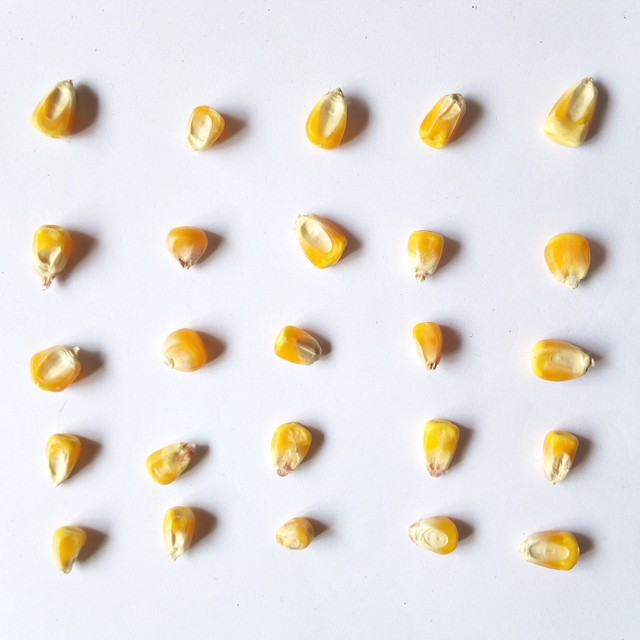maiz: (539, 74, 609, 155), (21, 218, 84, 299), (410, 85, 475, 159), (539, 223, 601, 297), (286, 209, 353, 274), (297, 81, 357, 153), (27, 75, 88, 143), (511, 522, 589, 575), (522, 334, 608, 382), (23, 334, 91, 394), (264, 413, 324, 480), (416, 412, 470, 480), (142, 436, 211, 488), (266, 320, 334, 369), (536, 422, 586, 487), (154, 320, 212, 376), (37, 427, 87, 491), (401, 224, 451, 286), (398, 511, 464, 557), (160, 222, 215, 277), (159, 500, 206, 563), (180, 97, 231, 152), (404, 316, 454, 371), (269, 509, 323, 556), (48, 521, 89, 578)
